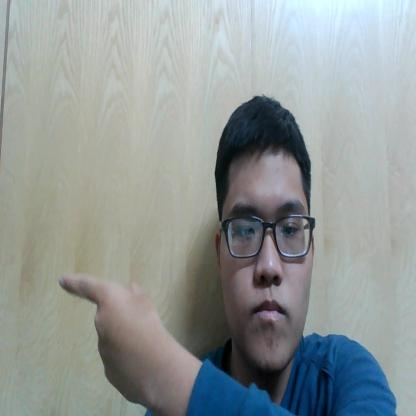right: (56, 265, 175, 410)
